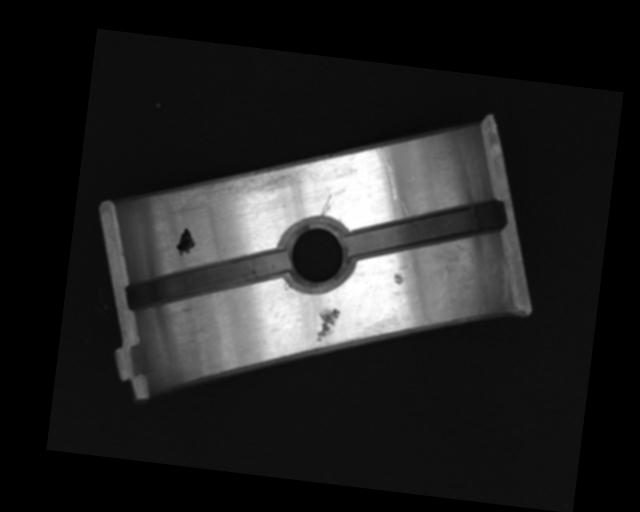blot: (174, 226, 197, 258)
bruise: (315, 305, 342, 344), (393, 270, 405, 286)
gap: (124, 230, 290, 327), (346, 185, 506, 274)
hole: (275, 210, 358, 295)
nick: (369, 145, 405, 201), (319, 193, 333, 219)
scratch: (158, 151, 296, 218)
